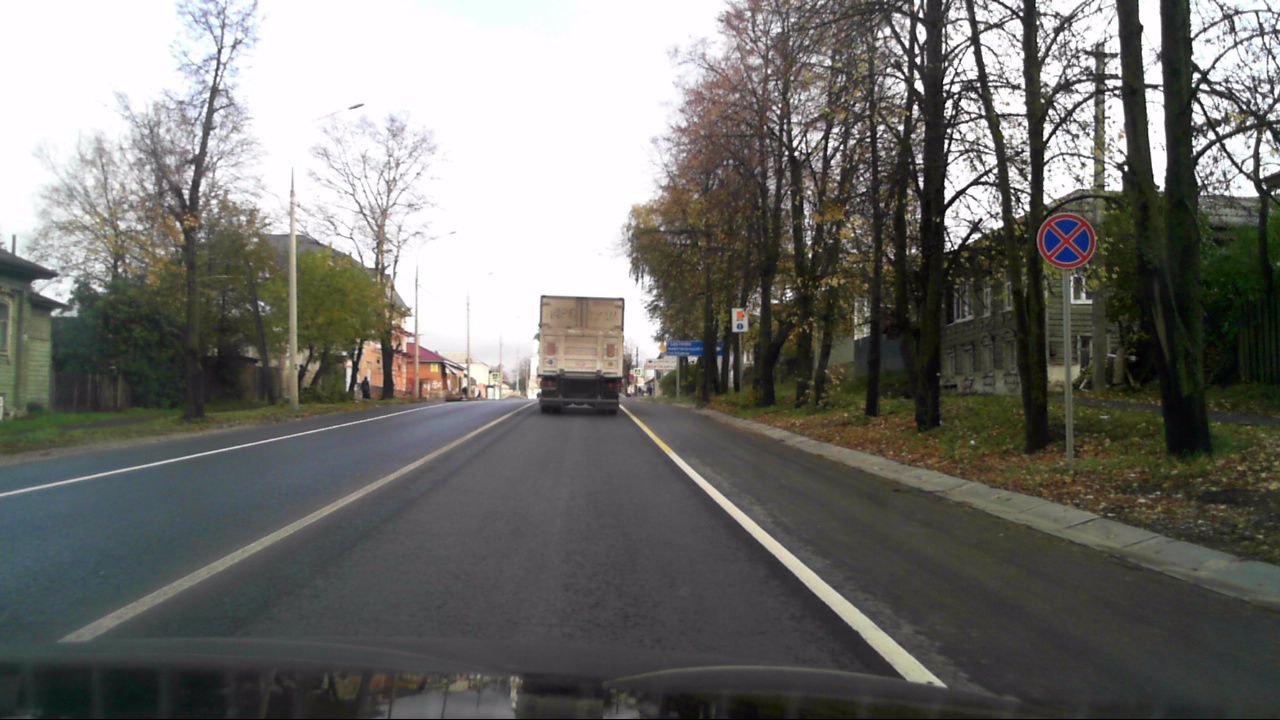No Parking: (1037, 211, 1094, 270)
